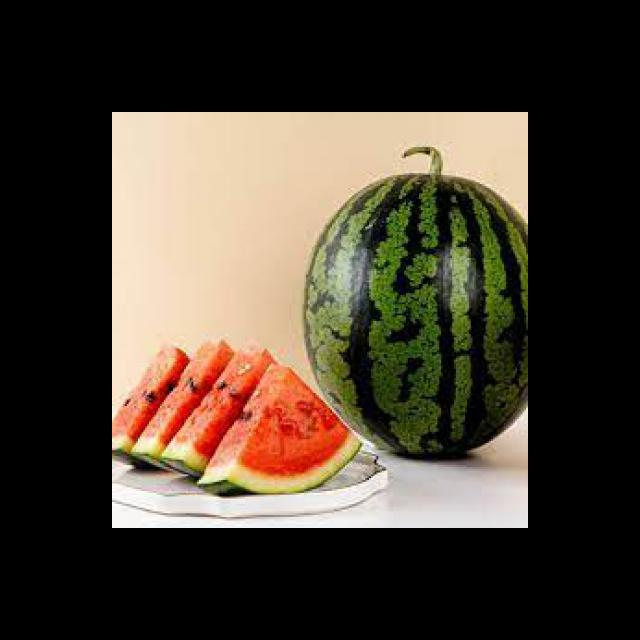watermelon: (302, 174, 528, 462), (196, 363, 365, 496), (159, 351, 281, 479), (130, 338, 236, 468), (112, 340, 192, 466)
